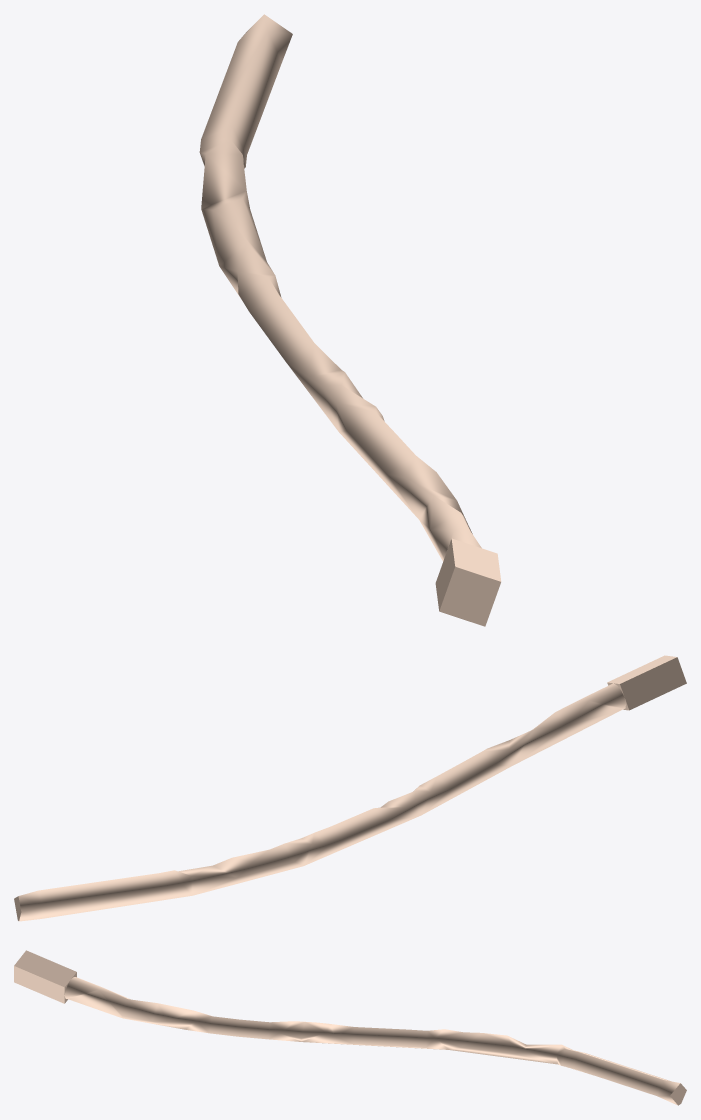
File: Marteau - tige_Quarts P.obj
The picture shows the model from 3 angles, top to bottom: view 1: azimuth 30°, elevation 25°; view 2: azimuth 150°, elevation 25°; view 3: azimuth 270°, elevation 25°; orthographic projection. The views are drawn at different scales.
Parts seen in each view (by area): view 1: Face_1, Face_12, Face_11, Face_2; view 2: Face_1, Face_10, Face_2, Face_11; view 3: Face_1, Face_11, Face_8, Face_2.
Part boxes in pixels (x1=…): Face_1: x1=199, y1=32, x2=481, y2=561; Face_12: x1=439, y1=567, x2=500, y2=626; Face_11: x1=451, y1=538, x2=501, y2=581; Face_2: x1=238, y1=14, x2=292, y2=61; Face_1: x1=38, y1=683, x2=625, y2=918; Face_10: x1=620, y1=657, x2=686, y2=710; Face_2: x1=18, y1=890, x2=42, y2=921; Face_11: x1=607, y1=655, x2=676, y2=683; Face_1: x1=64, y1=977, x2=670, y2=1095; Face_11: x1=14, y1=950, x2=76, y2=987; Face_8: x1=14, y1=966, x2=64, y2=1003; Face_2: x1=657, y1=1080, x2=680, y2=1105.
Size of the model in its own units: 0.0294 by 0.00598 by 0.0689.
